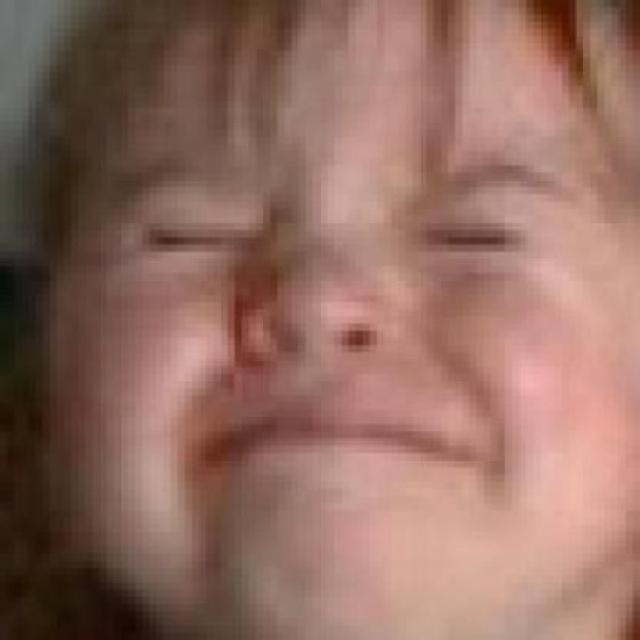drowsy: (415, 220, 527, 265), (146, 208, 243, 258)
